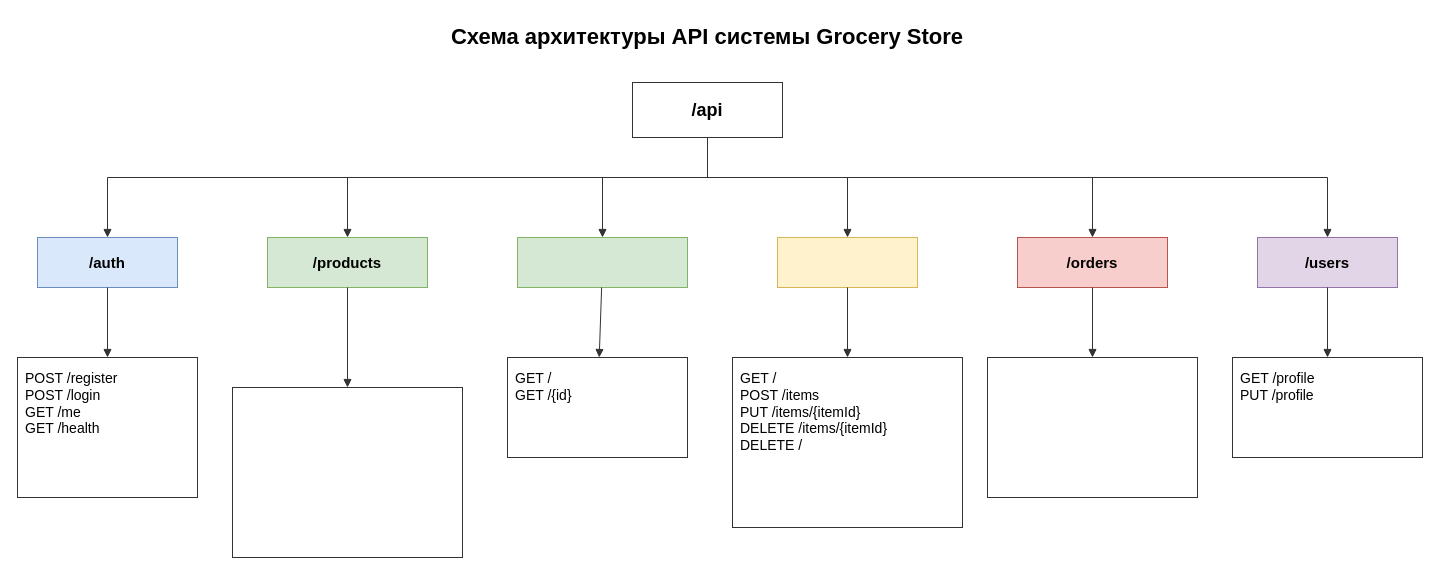
Some shapes in this 1440 by 575 pixel diagram are drawn without their labels. The shapes that lost their labels are listed below. From the top down, each one's box as (x1, y1, x2, y2) in pixels, then its label:
(516, 236, 688, 288): /categories
(776, 236, 918, 288): /cart
(986, 356, 1198, 498): GET / GET /{id} POST / PUT /{id}/status
(232, 386, 462, 558): GET / GET /{id} GET /category/{categoryId} GET /featured GET /search
